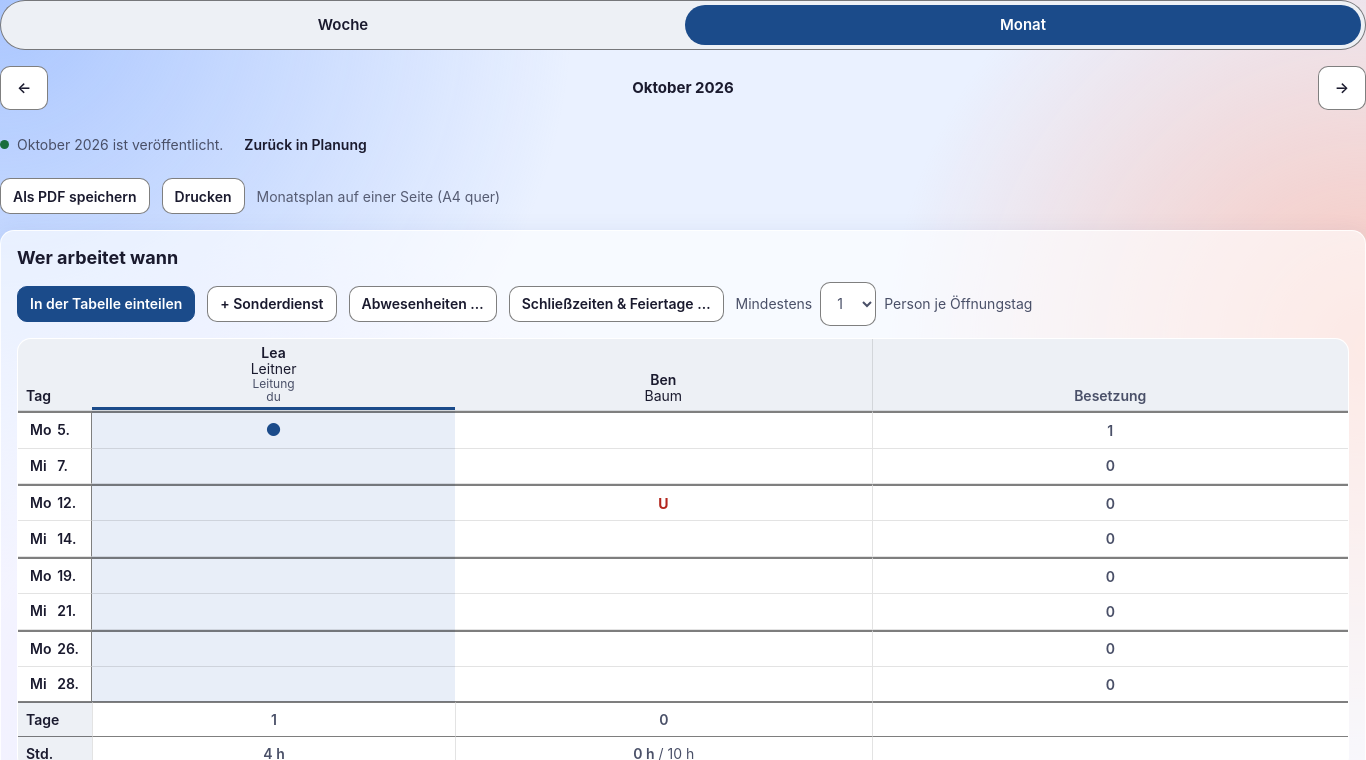
Test case: Einsatz-Matrix bearbeiten (Monat) › Klick auf den Namen füllt die Zeile, ein zweiter leert sie; Urlaub wird ausgelassen
The image size is (1366, 760).
Click the button "In der Tabelle einteilen" at (106,304), box x1=17 y1=286 x2=195 y2=322
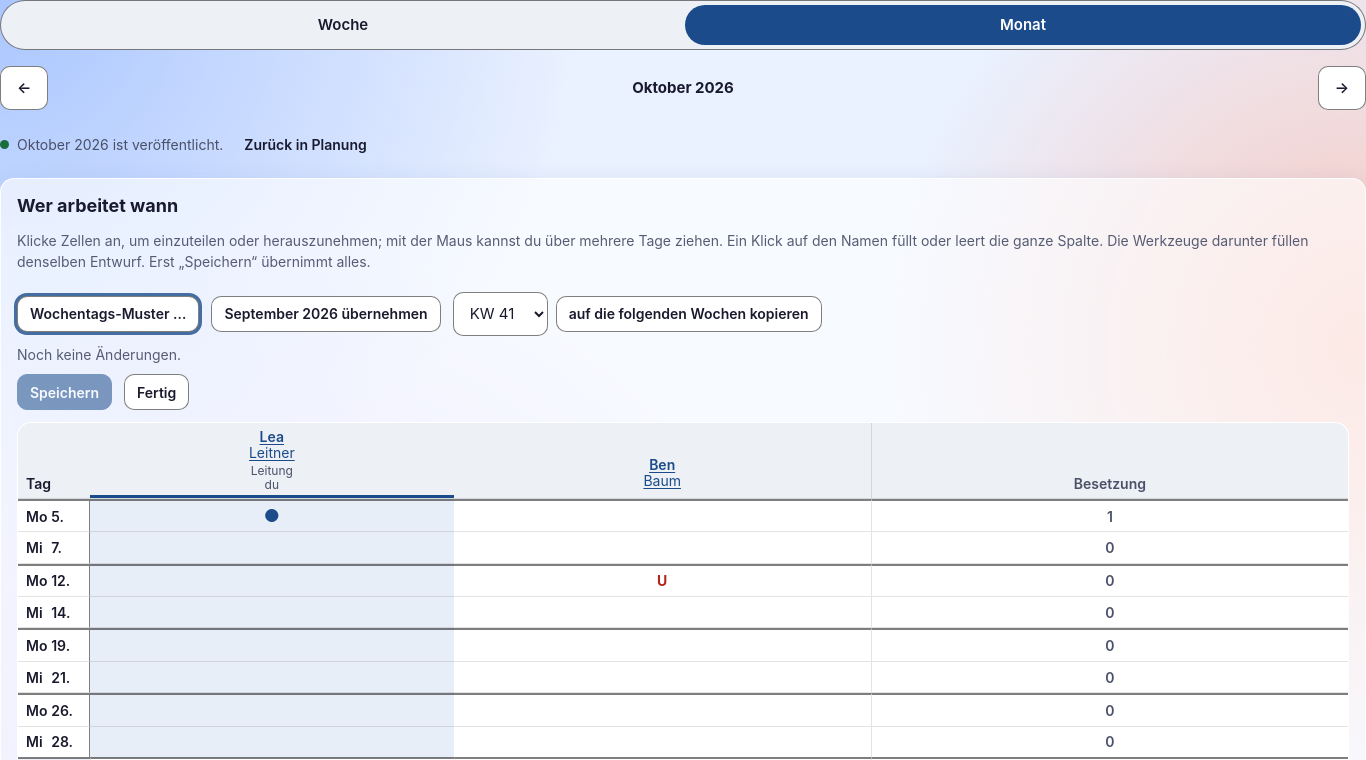
Click the button with aria-label "Ben Baum: an allen Öffnungstagen" at (662,473), box x1=643 y1=457 x2=681 y2=489
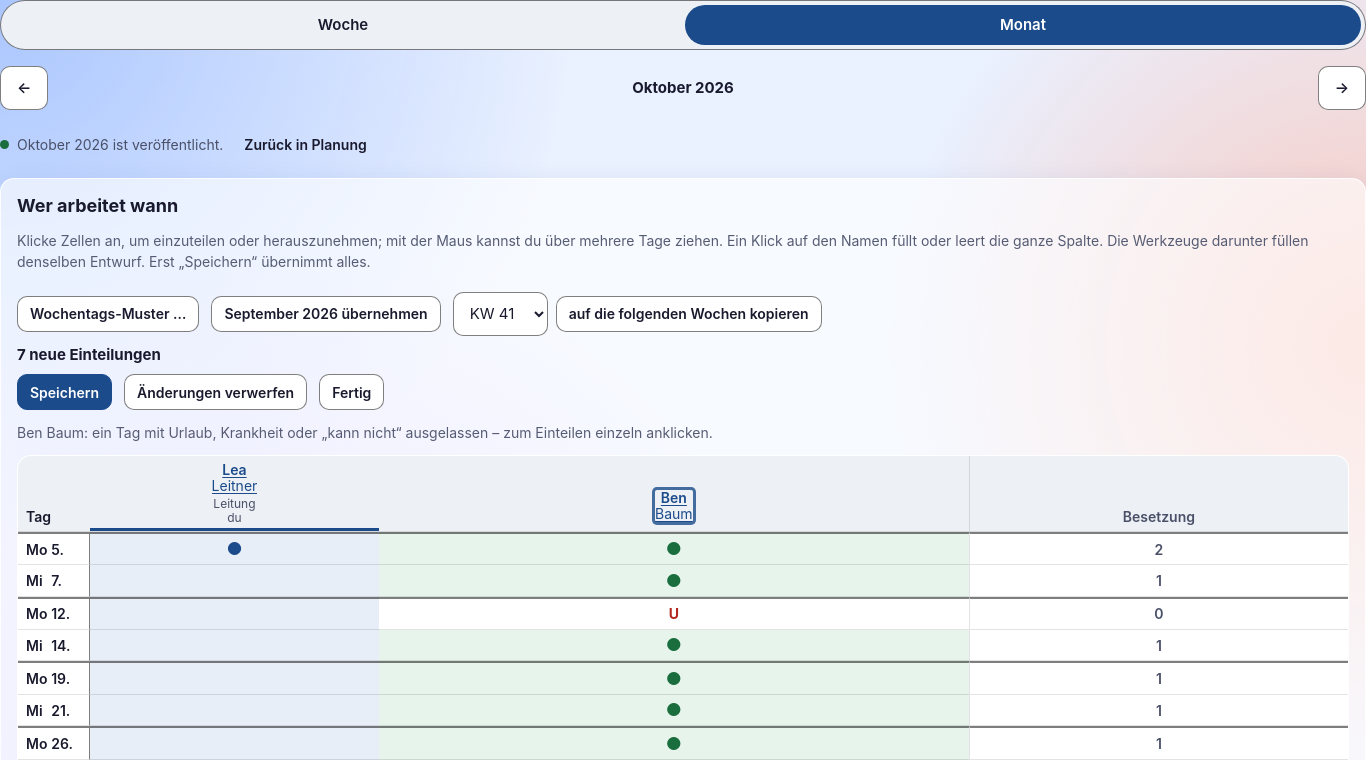
Now the text "Ben Baum: ein Tag mit Urlaub, Krankheit oder „kann nicht“ ausgelassen" is shown, box x1=17 y1=424 x2=713 y2=441
Click the button "U" at (674,614), box x1=379 y1=599 x2=969 y2=629
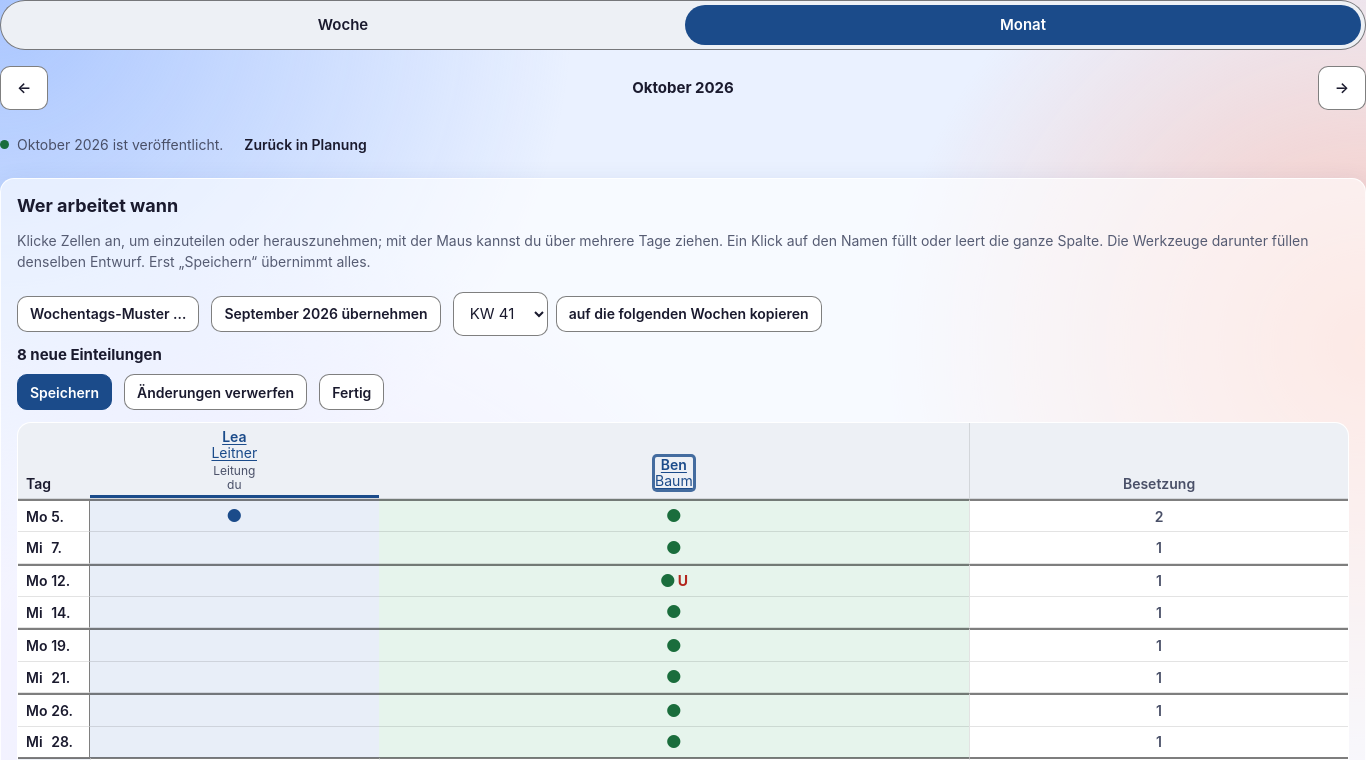
Click the button with aria-label "Ben Baum: an allen Öffnungstagen" at (674,473), box x1=655 y1=457 x2=693 y2=489
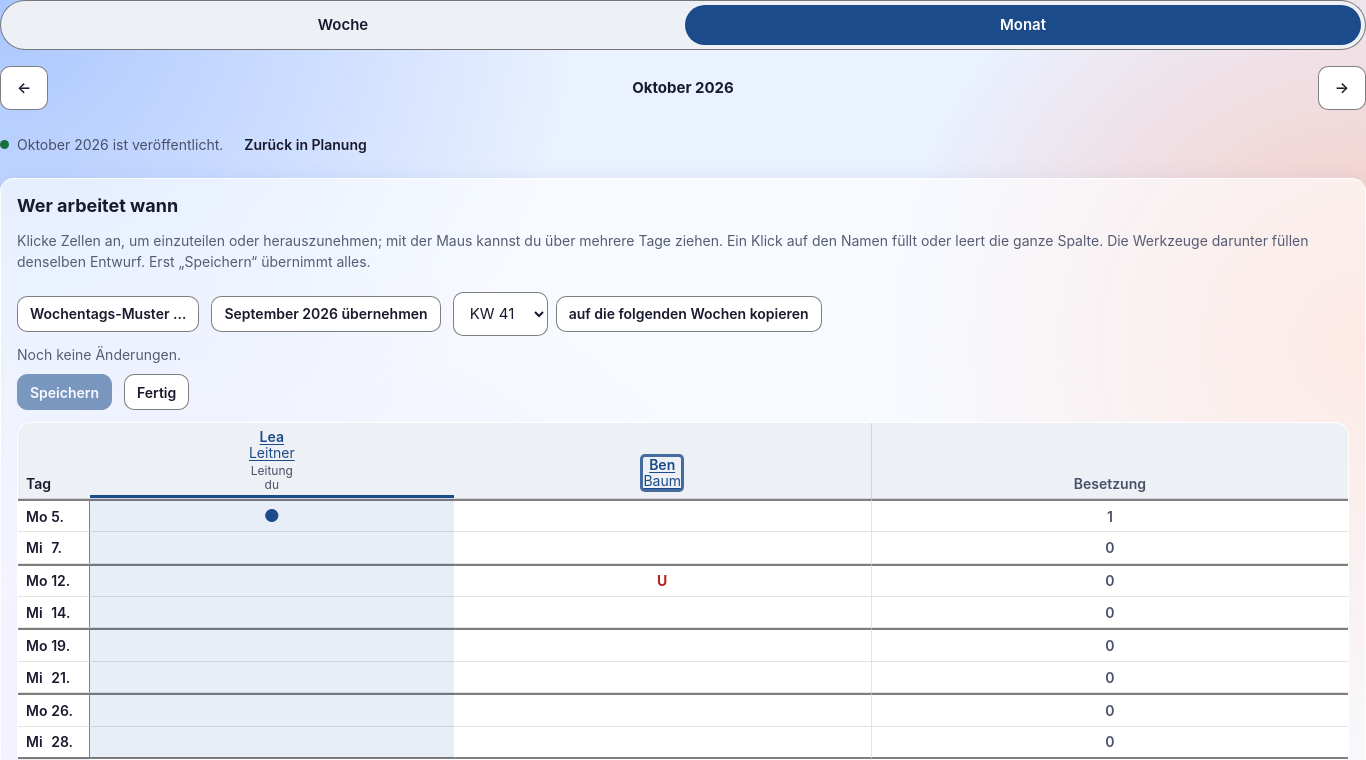
Now the text "Noch keine Änderungen." is shown, box x1=17 y1=346 x2=181 y2=362
